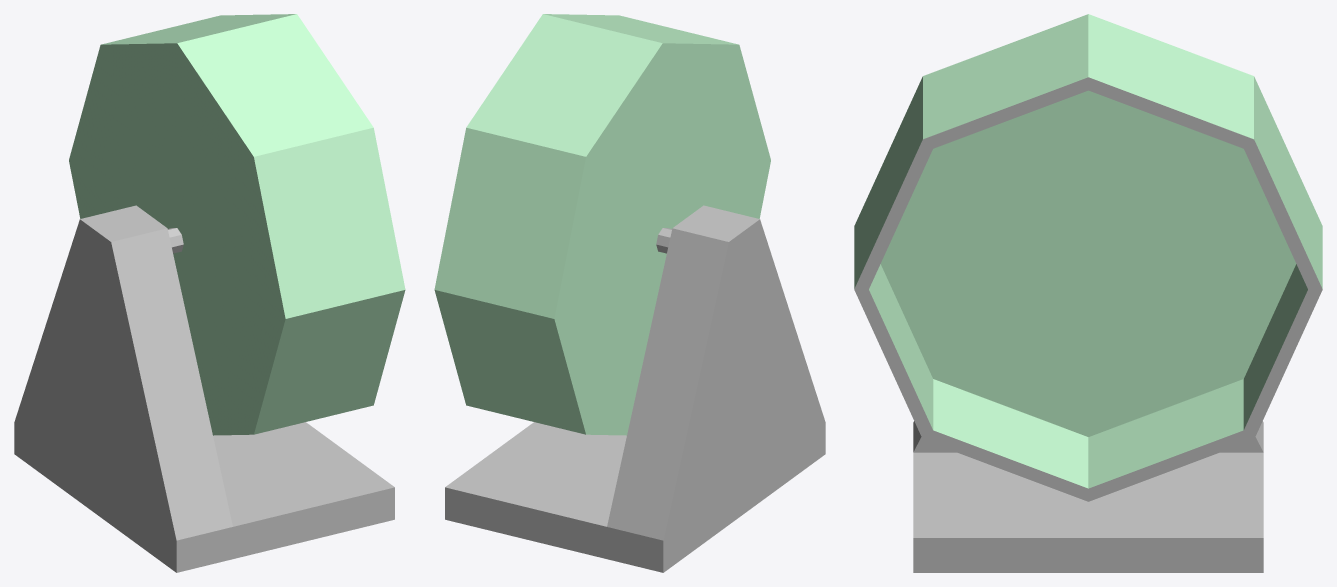
The model's file is Wheel2.fbx.
The picture shows the model from 3 angles, left to right: view 1: azimuth 30°, elevation 25°; view 2: azimuth 150°, elevation 25°; view 3: azimuth 270°, elevation 25°; orthographic projection. The views are drawn at different scales.
Parts seen in each view (by area): view 1: pCylinder193; view 2: pCylinder193; view 3: pCylinder193.
Part boxes in pixels (x1,y1,x2,y2): pCylinder193: (14, 14, 405, 572); pCylinder193: (434, 14, 825, 572); pCylinder193: (854, 14, 1322, 572).
Size of the model in its own units: 21.79 by 42.94 by 37.45.
